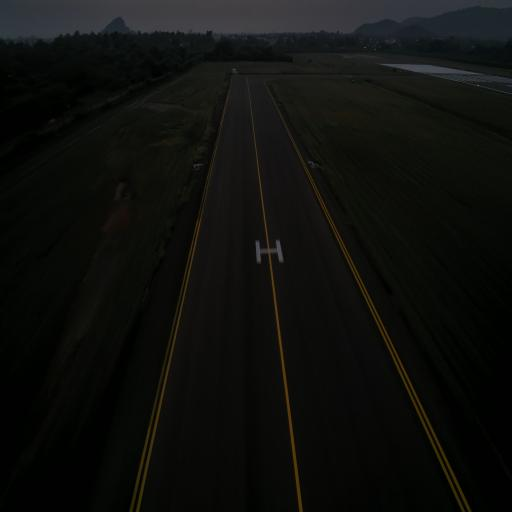on: (196, 162, 201, 170), (311, 162, 316, 168)
